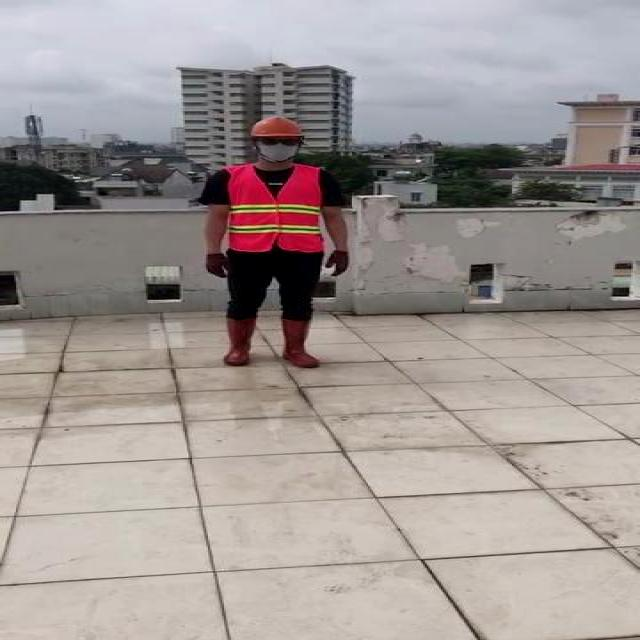boots: (283, 317, 320, 368), (222, 315, 258, 366)
face_mask: (256, 133, 304, 161)
glasses: (255, 135, 303, 149)
hand_glove: (326, 249, 348, 277), (207, 253, 230, 278)
head_helmet: (248, 114, 305, 137)
person: (196, 118, 350, 368)
vest: (230, 166, 324, 253)
